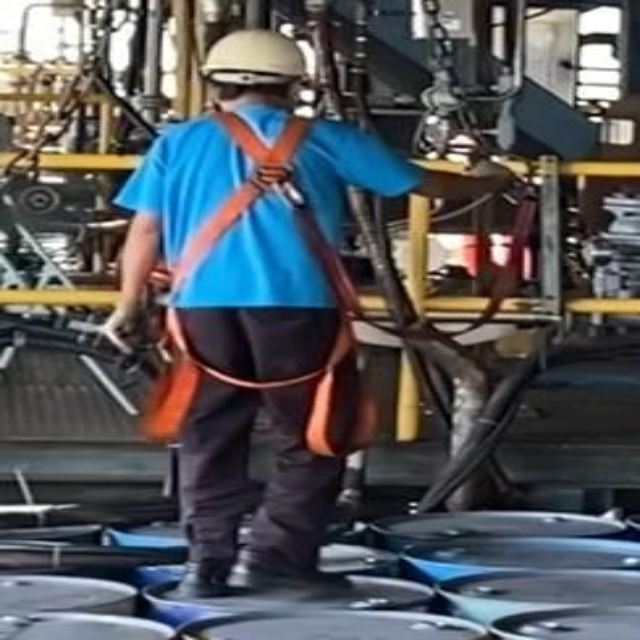Arnes_seguridad: (149, 106, 382, 469)
